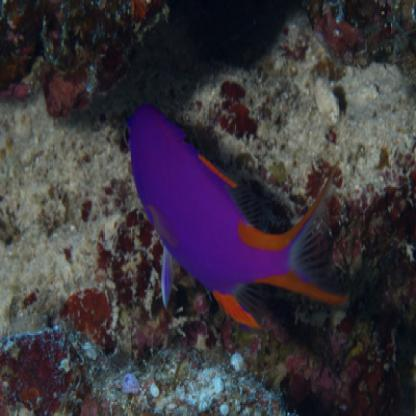grouper: (118, 96, 348, 333)
